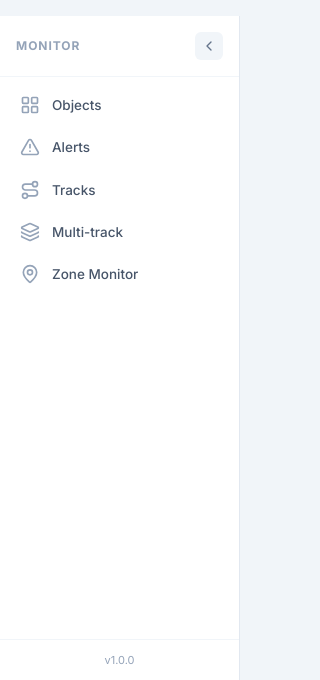
Test: LeftSidebar — monitor module › hides item labels when collapsed
This screenshot has width=320, height=680.
Click the button named "collapse sidebar". click: (209, 46)
box: [195,32,223,60]
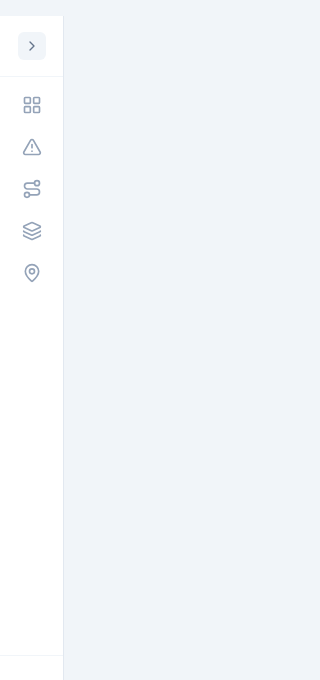
Expected: the text "Objects" is gone
